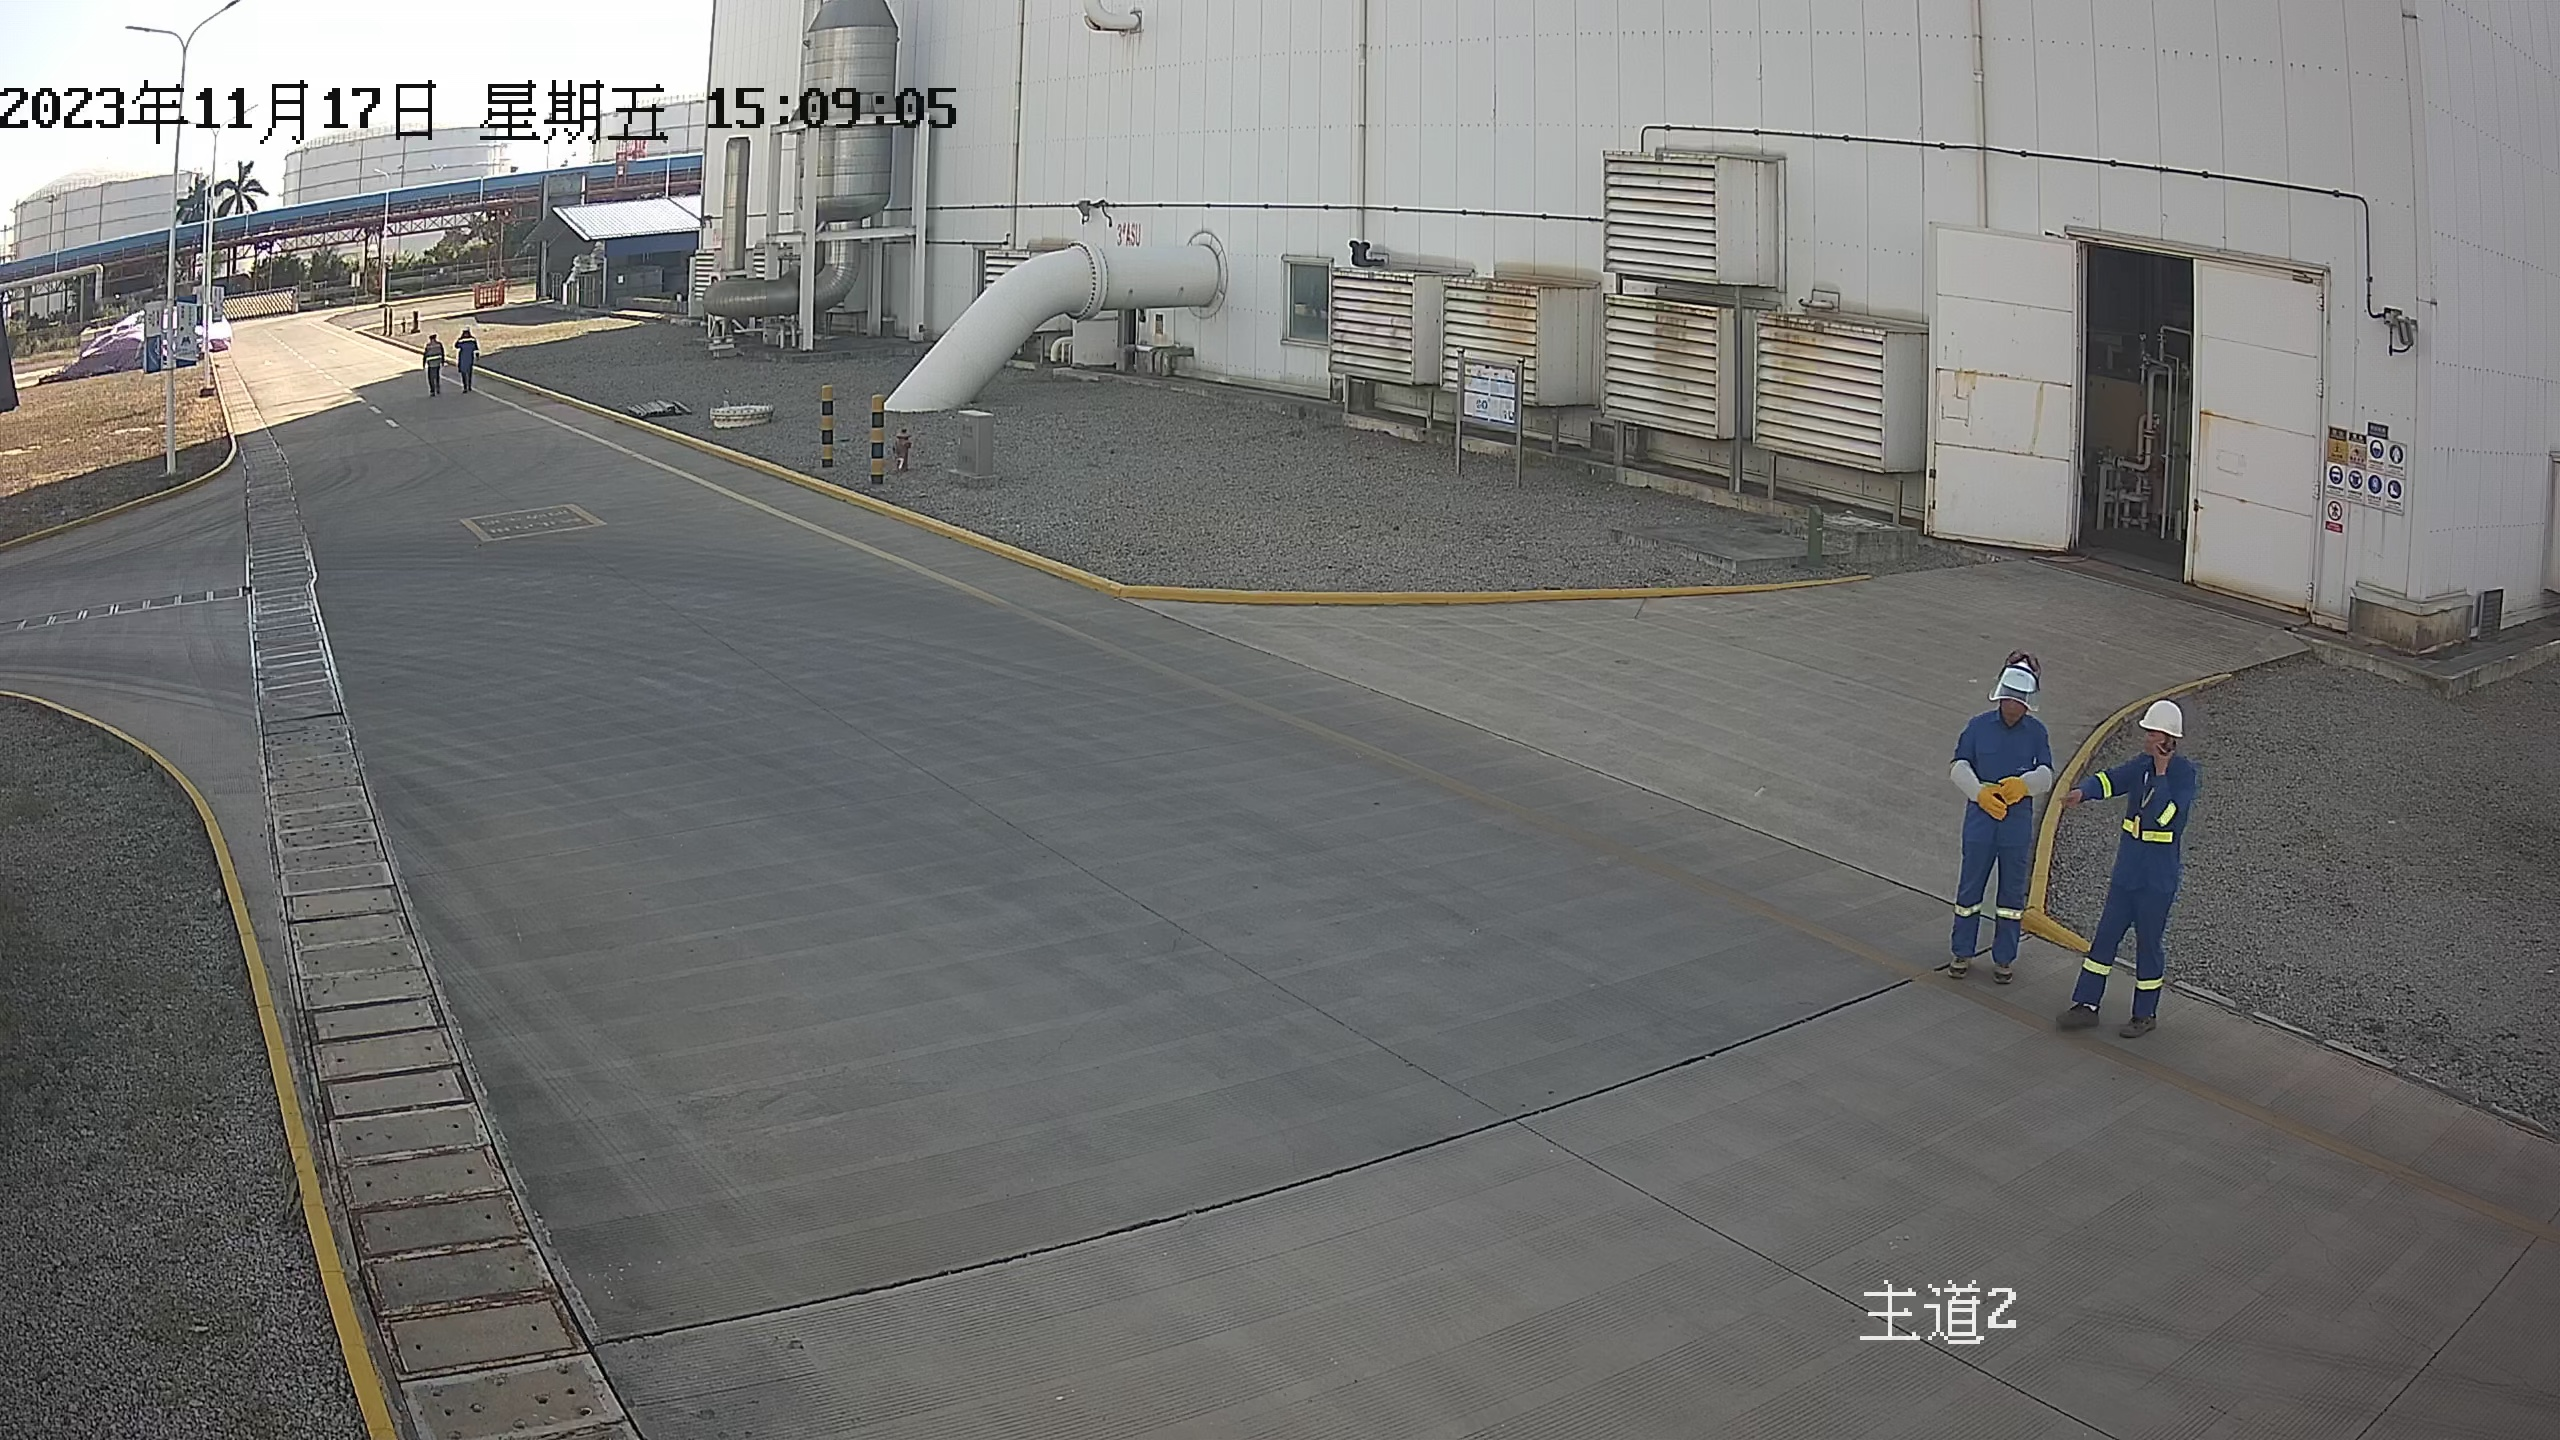Body_without_uniform: (414, 339, 450, 398), (451, 335, 485, 396)
Head_with_Helmet: (1953, 616, 2068, 727), (2104, 687, 2203, 768), (421, 328, 441, 344), (457, 323, 474, 338)
Uniform: (2058, 752, 2210, 1041), (1917, 705, 2063, 998)
